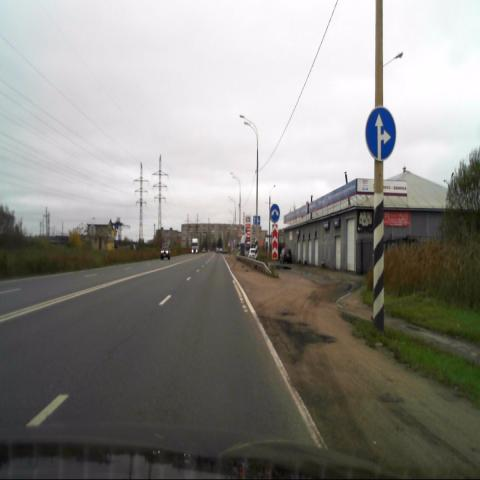4_1_4: (364, 106, 396, 162)
